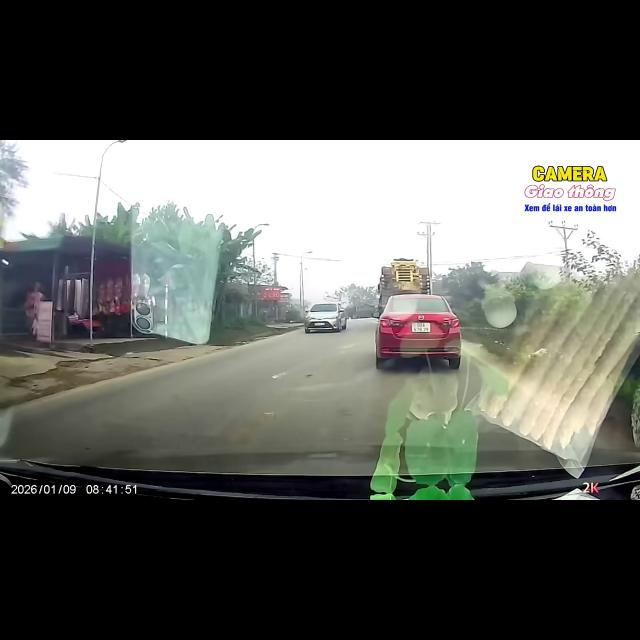car: (372, 294, 461, 369), (304, 302, 346, 333)
truck: (377, 259, 431, 312)
